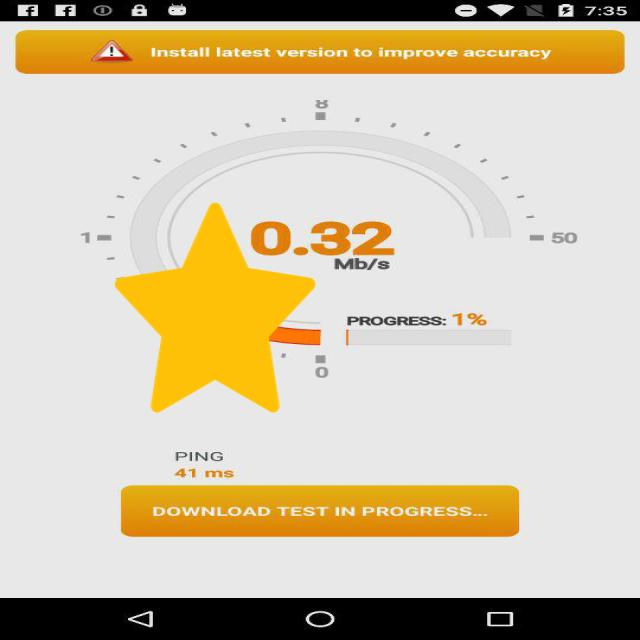forced continuity: (115, 202, 315, 412)
